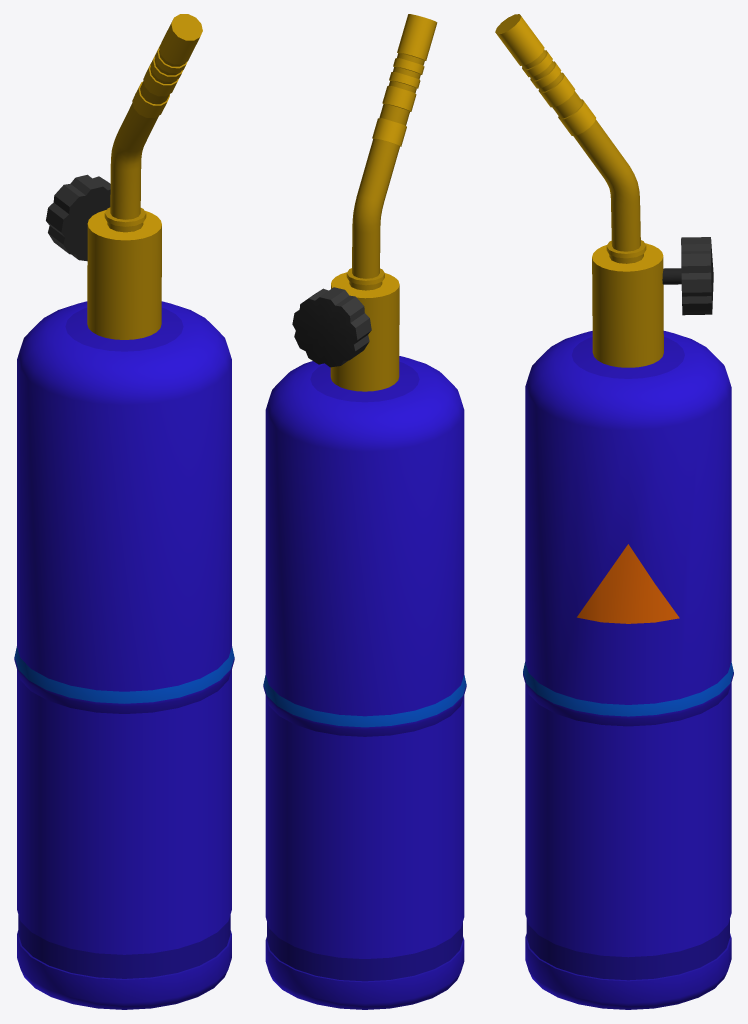
Rendered from blowtorch.fbx.
3 renders of one model, left to right at view 1: azimuth 30°, elevation 25°; view 2: azimuth 150°, elevation 25°; view 3: azimuth 270°, elevation 25°, orthographic. The views are drawn at different scales.
Visible parts, largest first — view 1: blowtorch; view 2: blowtorch; view 3: blowtorch.
Part boxes in pixels (left/top/right/bottom): blowtorch: left=14, top=14, right=234, bottom=1009; blowtorch: left=263, top=14, right=466, bottom=1009; blowtorch: left=495, top=14, right=733, bottom=1009.
Bounding box in the file's own units: 21.84 × 109 × 24.72.
